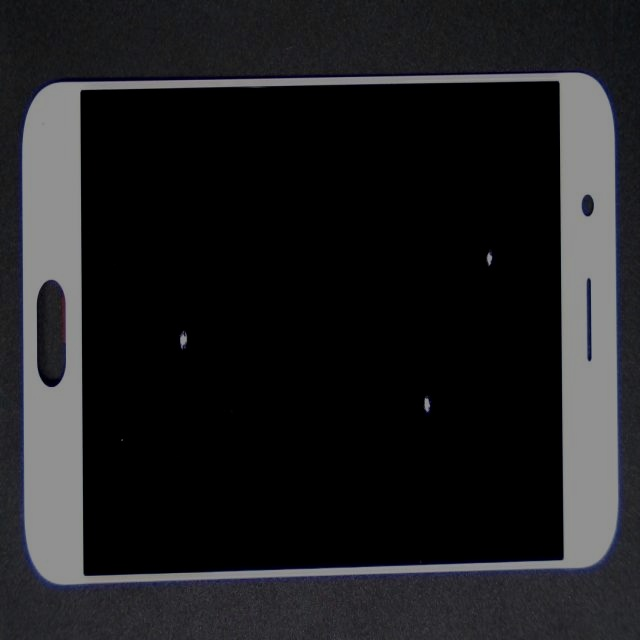stain: (213, 153, 618, 590), (259, 89, 640, 369), (116, 142, 284, 462)
